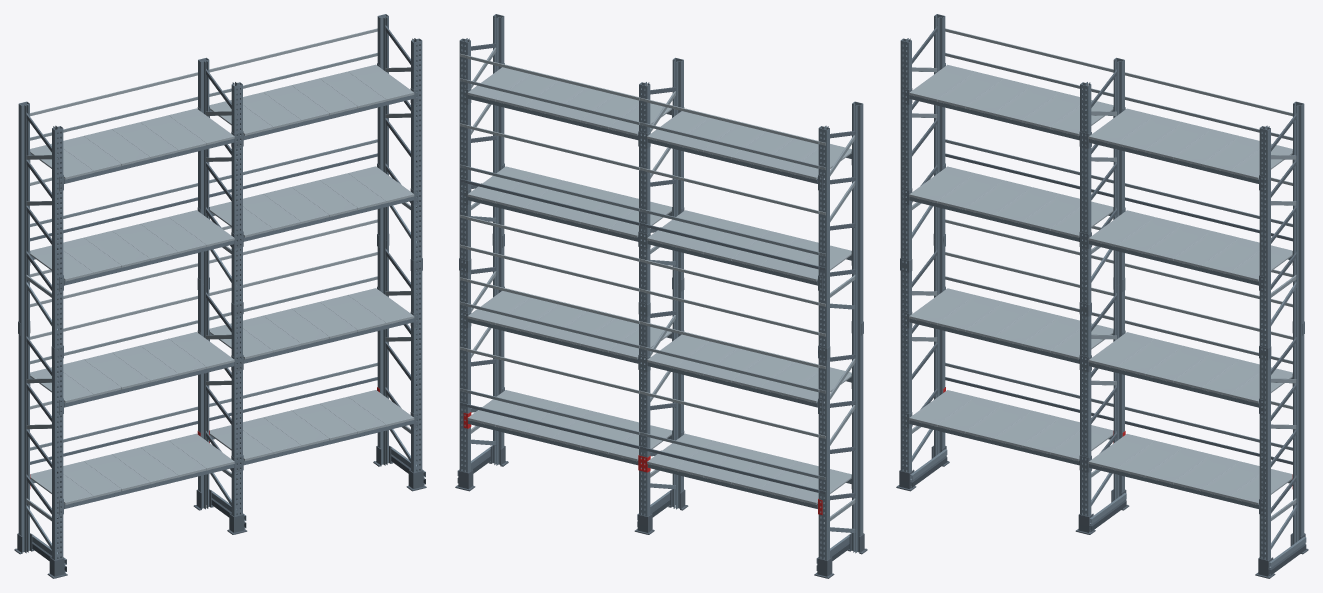
Rendered from SM_ShelfEmptyx3_White_D.fbx.
The picture shows the model from 3 angles, left to right: view 1: azimuth 30°, elevation 25°; view 2: azimuth 150°, elevation 25°; view 3: azimuth 330°, elevation 25°; orthographic projection.
Parts seen in each view (by area): view 1: SM_ShelfEmptyx3_White_D; view 2: SM_ShelfEmptyx3_White_D; view 3: SM_ShelfEmptyx3_White_D.
Part boxes in pixels (box(x1,y1,x2,y2)): SM_ShelfEmptyx3_White_D: box(14, 14, 426, 578); SM_ShelfEmptyx3_White_D: box(455, 14, 867, 578); SM_ShelfEmptyx3_White_D: box(896, 14, 1308, 578).
Size of the model in its own units: 647 by 739 by 118.
